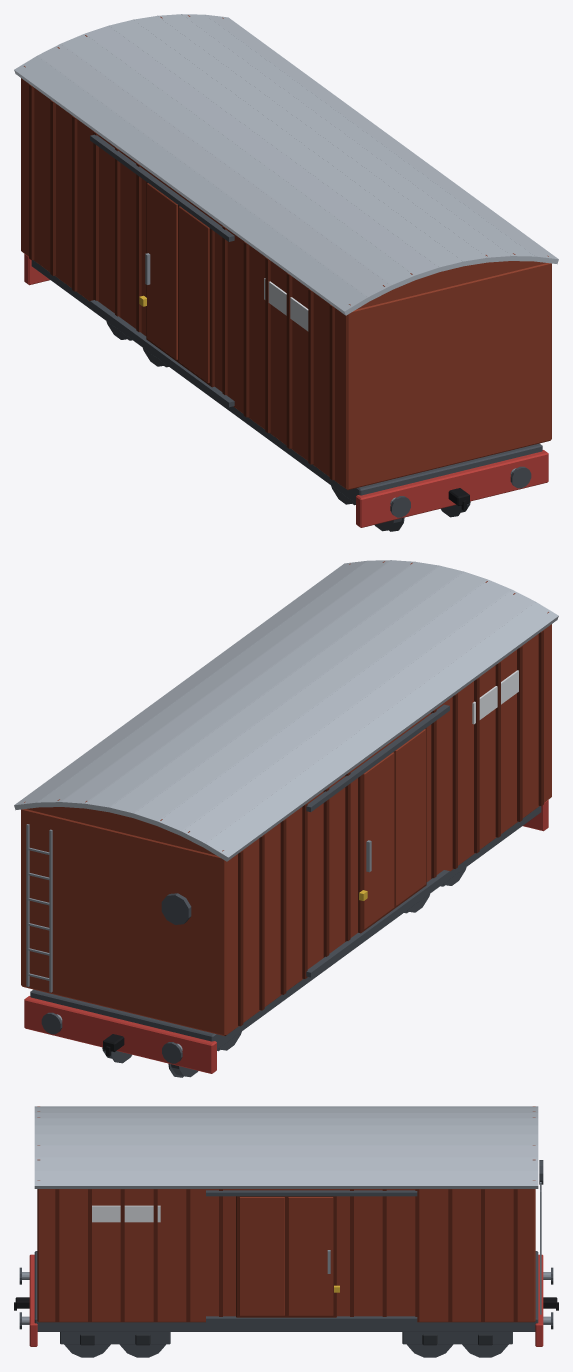
The model's file is wagon_fret.glb.
The picture shows the model from 3 angles, top to bottom: view 1: azimuth 30°, elevation 25°; view 2: azimuth 150°, elevation 25°; view 3: azimuth 270°, elevation 25°; orthographic projection. The views are drawn at different scales.
Visible parts, largest first — view 1: pieces_fret.002, pieces_gris_clair.002, pieces_fret_sombre.002, pieces_acier_sombre.008, pieces_rouge.006, pieces_blanc.006, roues_av_acier_sombre.008; view 2: pieces_fret.002, pieces_gris_clair.002, pieces_fret_sombre.002, pieces_acier_sombre.008, pieces_rouge.006, pieces_acier.008, pieces_blanc.006, roues_ar_acier_sombre.008; view 3: pieces_fret.002, pieces_gris_clair.002, pieces_acier_sombre.008, pieces_fret_sombre.002, pieces_rouge.006, pieces_blanc.006, roues_ar_acier_sombre.008, roues_av_acier_sombre.008, pieces_fonte.008, pieces_acier.008, pieces_noir.008.
Part boxes in pixels (x1,y1,x2,y2): pieces_fret.002: (21,15,551,489); pieces_gris_clair.002: (14,14,558,315); pieces_fret_sombre.002: (29,84,334,480); pieces_acier_sombre.008: (31,134,542,517); pieces_rouge.006: (24,254,548,527); pieces_blanc.006: (264,278,308,331); roues_av_acier_sombre.008: (331,485,470,531); pieces_fret.002: (21,561,551,1035); pieces_gris_clair.002: (14,560,558,861); pieces_fret_sombre.002: (238,630,543,1026); pieces_acier_sombre.008: (30,704,541,1063); pieces_rouge.006: (24,800,548,1073); pieces_acier.008: (26,824,371,1050); pieces_blanc.006: (472,670,518,724); roues_ar_acier_sombre.008: (102,1031,241,1077); pieces_fret.002: (37,1106,535,1322); pieces_gris_clair.002: (34,1106,538,1188); pieces_acier_sombre.008: (19,1160,553,1344); pieces_fret_sombre.002: (55,1189,517,1321); pieces_rouge.006: (29,1254,543,1346); pieces_blanc.006: (92,1205,160,1222); roues_ar_acier_sombre.008: (407,1344,508,1357); roues_av_acier_sombre.008: (64,1344,165,1357); pieces_fonte.008: (80,1334,492,1345); pieces_acier.008: (22,1182,550,1324); pieces_noir.008: (14,1297,558,1310).
Size of the model in its own units: 1.96 by 2.36 by 5.41.
